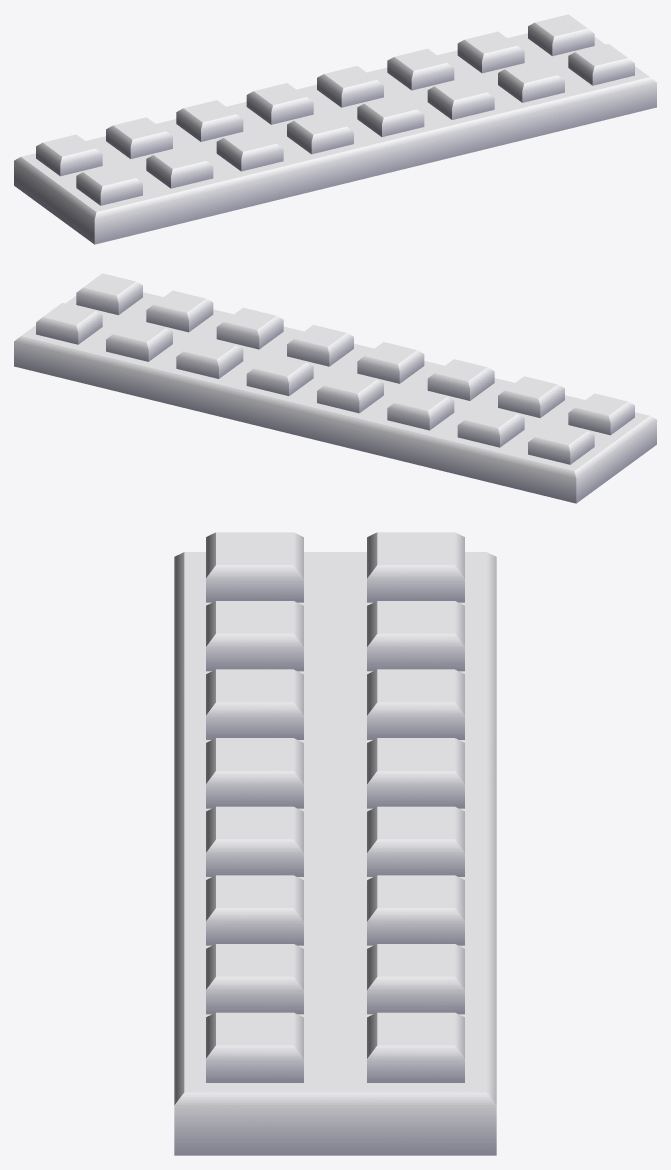
File: square-hq-plate-2x8.glb
3 views of the same model, one above another, from view 1: azimuth 30°, elevation 25°; view 2: azimuth 150°, elevation 25°; view 3: azimuth 270°, elevation 25° (orthographic). The views are drawn at different scales.
Parts seen in each view (by area): view 1: square-hq-plate-2x8; view 2: square-hq-plate-2x8; view 3: square-hq-plate-2x8.
Part boxes in pixels (<box>): square-hq-plate-2x8: <box>14,14,656,244</box>; square-hq-plate-2x8: <box>14,273,656,503</box>; square-hq-plate-2x8: <box>174,532,496,1155</box>.
Bounding box in the file's own units: 3.18 × 0.25 × 0.79.
1 material, 1 textured.
